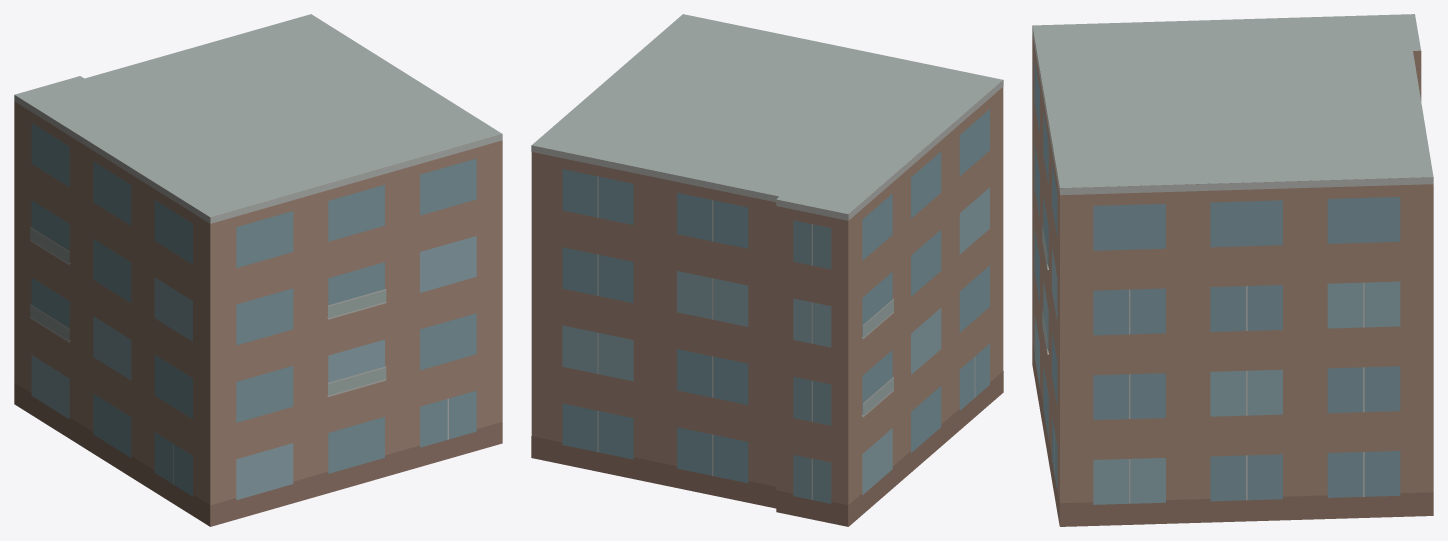
Rendered from survey-upis-32701350.glb.
3 renders of one model, left to right at view 1: azimuth 30°, elevation 25°; view 2: azimuth 150°, elevation 25°; view 3: azimuth 270°, elevation 25°, orthographic. The views are drawn at different scales.
Visible parts, largest first — view 1: survey-upis-32701350.tmp; view 2: survey-upis-32701350.tmp; view 3: survey-upis-32701350.tmp.
Boxes of the visible parts, <box> form: survey-upis-32701350.tmp: <box>14,14,502,526</box>; survey-upis-32701350.tmp: <box>531,14,1003,526</box>; survey-upis-32701350.tmp: <box>1032,14,1433,526</box>.
Size of the model in its own units: 12.91 by 11.7 by 12.57.
